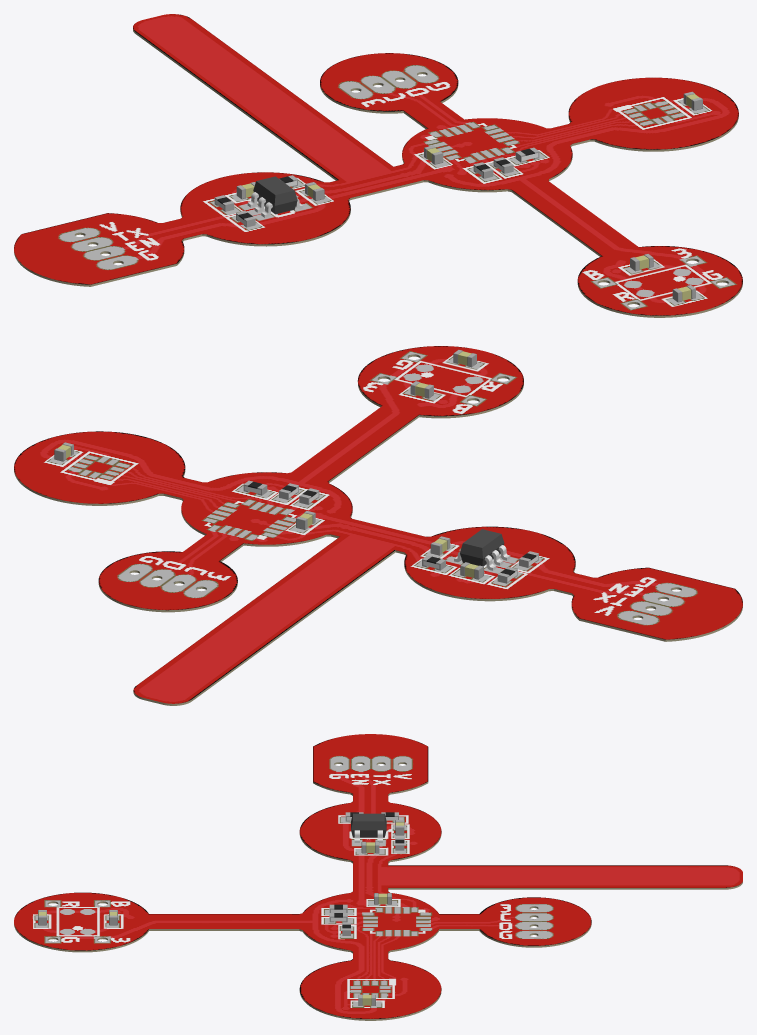
The model's file is fse32.glb.
3 views of the same model, one above another, from view 1: azimuth 30°, elevation 25°; view 2: azimuth 150°, elevation 25°; view 3: azimuth 270°, elevation 25° (orthographic). The views are drawn at different scales.
Parts seen in each view (by area): view 1: board, Body; view 2: board, Body; view 3: board, Body.
Boxes of the visible parts, left/top/right/bottom form: board: left=14, top=14, right=742, bottom=317; Body: left=253, top=176, right=297, bottom=214; board: left=14, top=346, right=742, bottom=705; Body: left=460, top=529, right=504, bottom=566; board: left=14, top=734, right=742, bottom=1020; Body: left=351, top=813, right=386, bottom=837.
Size of the model in its own units: 0.038 by 0.00121 by 0.0411.
11 materials, 2 textured.
